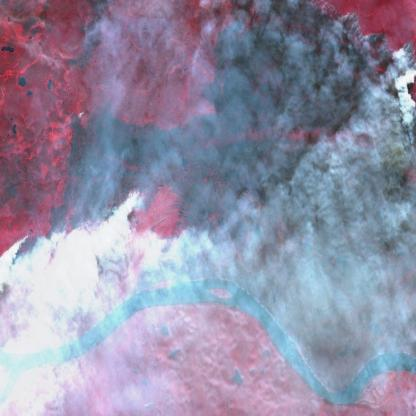fire: (0, 184, 145, 292), (319, 0, 416, 90)
